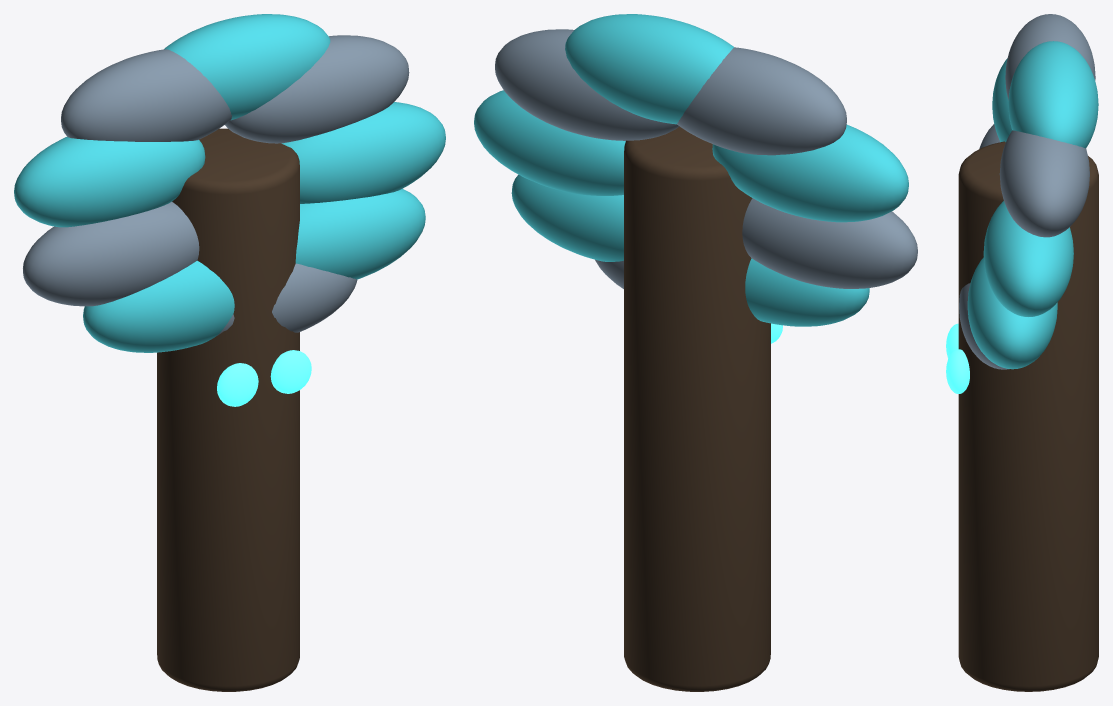
The model's file is plant.glb.
3 views of the same model, side by side, from view 1: azimuth 30°, elevation 25°; view 2: azimuth 150°, elevation 25°; view 3: azimuth 270°, elevation 25° (orthographic). The views are drawn at different scales.
Visible parts, largest first — view 1: TRUNK_SECONDARY, PETAL_ACCENT.002, PETAL_PRIMARY.002, PETAL_PRIMARY.001, PETAL_PRIMARY, PETAL_ACCENT, PETAL_ACCENT.001, PETAL_ACCENT.003, PETAL_ACCENT.004, PETAL_PRIMARY.003, EYE_EMISSIVE, EYE_EMISSIVE.001; view 2: TRUNK_SECONDARY, PETAL_PRIMARY.001, PETAL_ACCENT.001, PETAL_ACCENT.002, PETAL_PRIMARY.002, PETAL_PRIMARY, PETAL_ACCENT, PETAL_ACCENT.004, PETAL_ACCENT.003; view 3: TRUNK_SECONDARY, PETAL_PRIMARY, PETAL_ACCENT.001, PETAL_ACCENT, PETAL_ACCENT.004, PETAL_PRIMARY.001, PETAL_ACCENT.002, EYE_EMISSIVE.001, PETAL_PRIMARY.003, EYE_EMISSIVE, PETAL_PRIMARY.002.
Boxes of the visible parts, x1=… form: TRUNK_SECONDARY: x1=157, y1=128, x2=299, y2=691; PETAL_ACCENT.002: x1=14, y1=136, x2=205, y2=227; PETAL_PRIMARY.002: x1=23, y1=202, x2=199, y2=306; PETAL_PRIMARY.001: x1=61, y1=49, x2=231, y2=141; PETAL_PRIMARY: x1=225, y1=35, x2=409, y2=143; PETAL_ACCENT: x1=281, y1=102, x2=445, y2=203; PETAL_ACCENT.001: x1=164, y1=14, x2=330, y2=120; PETAL_ACCENT.003: x1=83, y1=260, x2=234, y2=352; PETAL_ACCENT.004: x1=295, y1=189, x2=425, y2=279; PETAL_PRIMARY.003: x1=216, y1=263, x2=357, y2=336; EYE_EMISSIVE: x1=217, y1=363, x2=258, y2=406; EYE_EMISSIVE.001: x1=270, y1=350, x2=311, y2=393; TRUNK_SECONDARY: x1=624, y1=126, x2=770, y2=691; PETAL_PRIMARY.001: x1=677, y1=47, x2=846, y2=155; PETAL_ACCENT.001: x1=565, y1=14, x2=733, y2=124; PETAL_ACCENT.002: x1=712, y1=124, x2=908, y2=222; PETAL_PRIMARY.002: x1=742, y1=198, x2=917, y2=288; PETAL_PRIMARY: x1=495, y1=29, x2=679, y2=140; PETAL_ACCENT: x1=474, y1=90, x2=625, y2=195; PETAL_ACCENT.004: x1=511, y1=174, x2=623, y2=261; PETAL_ACCENT.003: x1=745, y1=258, x2=869, y2=326; TRUNK_SECONDARY: x1=958, y1=141, x2=1098, y2=691; PETAL_PRIMARY: x1=999, y1=130, x2=1089, y2=237; PETAL_ACCENT.001: x1=1008, y1=41, x2=1098, y2=148; PETAL_ACCENT: x1=983, y1=201, x2=1073, y2=316; PETAL_ACCENT.004: x1=967, y1=257, x2=1057, y2=369; PETAL_PRIMARY.001: x1=1005, y1=14, x2=1095, y2=100; PETAL_ACCENT.002: x1=992, y1=58, x2=1011, y2=142; EYE_EMISSIVE.001: x1=946, y1=349, x2=969, y2=393; PETAL_PRIMARY.003: x1=959, y1=283, x2=1009, y2=369; EYE_EMISSIVE: x1=946, y1=323, x2=958, y2=358; PETAL_PRIMARY.002: x1=979, y1=124, x2=999, y2=148.
Size of the model in its own units: 1.91 by 2.71 by 0.61.
